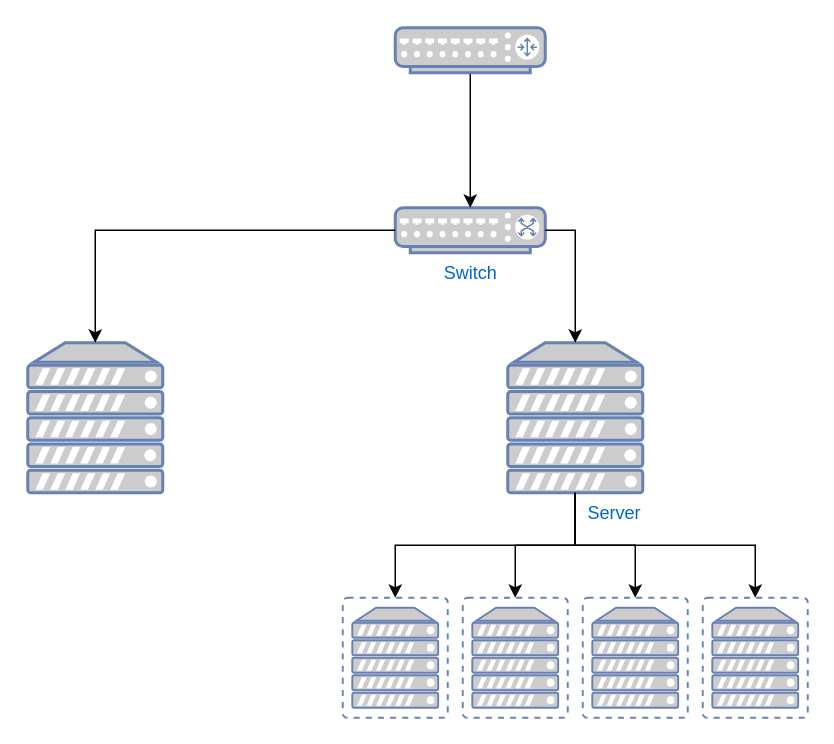
Some shapes in this 834 by 744 pixel diagram are drawn without their labels. Each missing label, with the centre of its shape:
"Legacy Server" goes at (x=95, y=417).
"Router" goes at (x=469, y=50).
